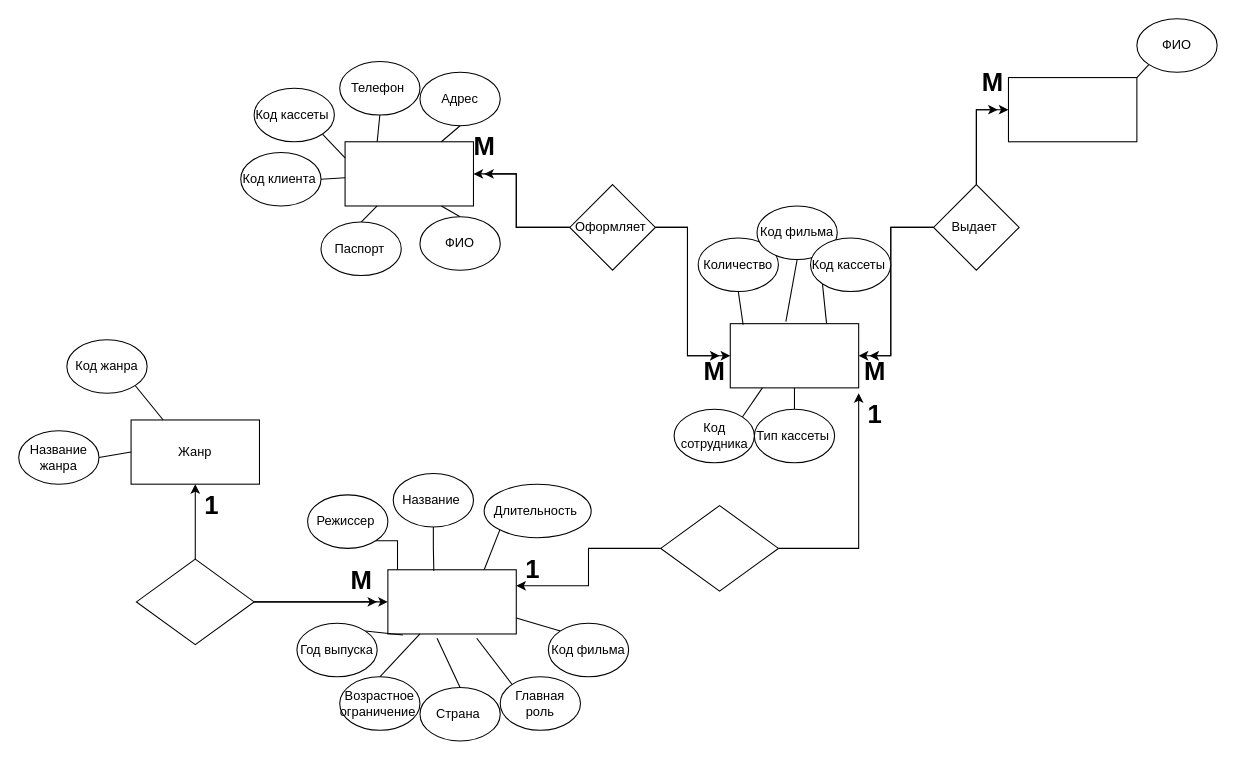
The diagram is 1236 pixels wide and 760 high, and some of its shapes have lost their labels. The shapes that lost their labels are listed below. From the top down, each one's centre as x and y in pixels, then its label:
At [1072,109]: "Сотрудник".
At [408,173]: "Клиент".
At [794,355]: "Кассета".
At [719,548]: "записывается".
At [194,601]: "Принадлежит".
At [451,601]: "Фильм".
